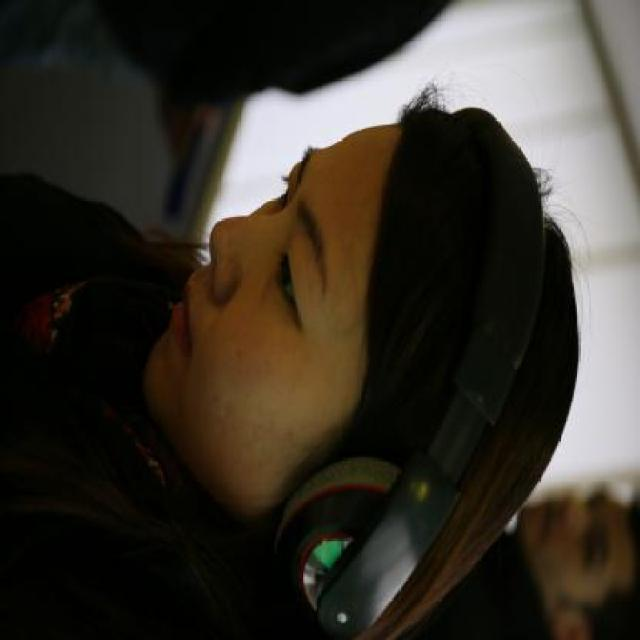earphone: (294, 103, 554, 637)
